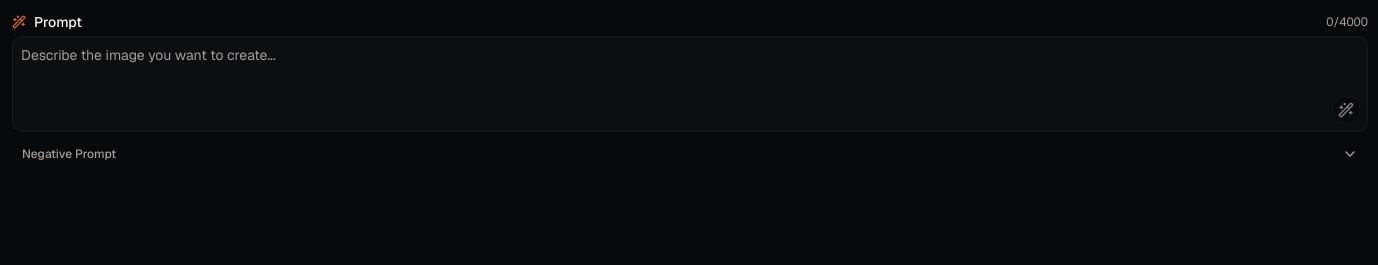
it: PromptSection › negative prompt EnhanceButton disabled state › keeps negative enhance button disabled when only positive prompt has content
// Type in positive prompt only
Type "A beautiful sunset" into the text box with test id "prompt-input" at x=690, y=84, box x1=12 y1=36 x2=1368 y2=132
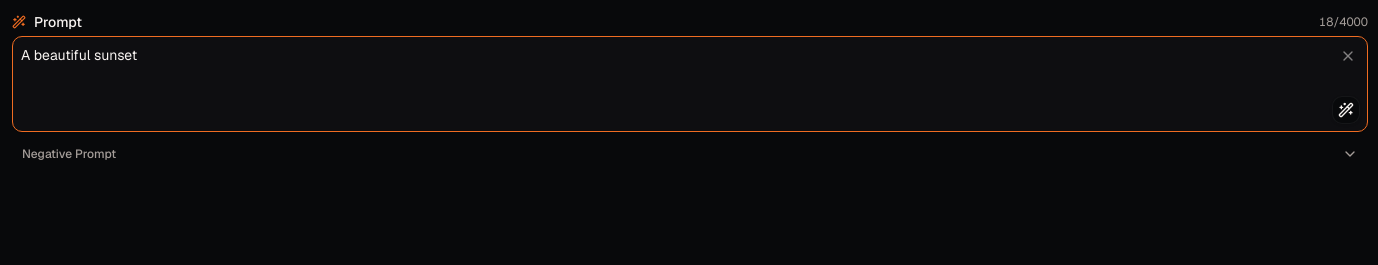
// Open negative prompt section
Click the button with test id "negative-prompt-toggle" at x=69, y=154, box x1=12 y1=138 x2=1368 y2=170
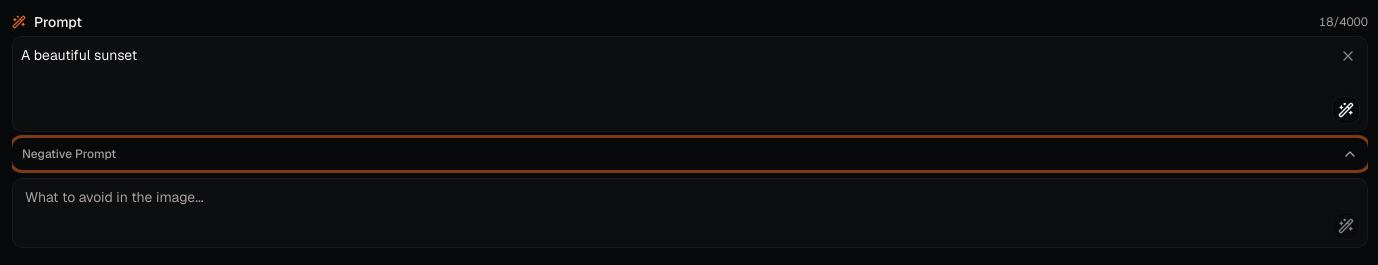
expect the 2nd button named "Enhance with AI" is disabled: met, box x1=1332 y1=212 x2=1360 y2=240
